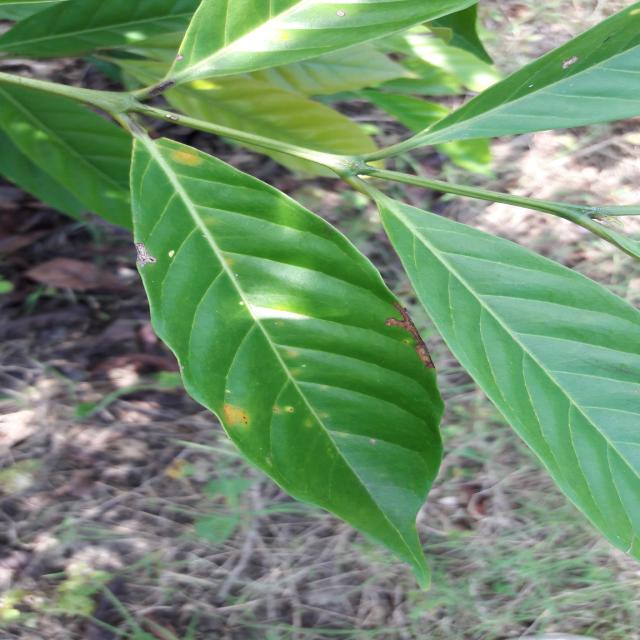Enfermedad-Roya: (126, 133, 445, 593)
